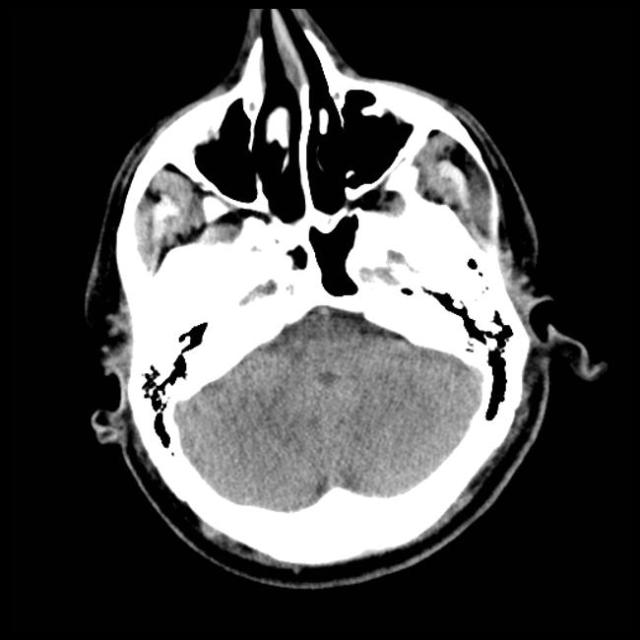lesion: (79, 9, 602, 588)
